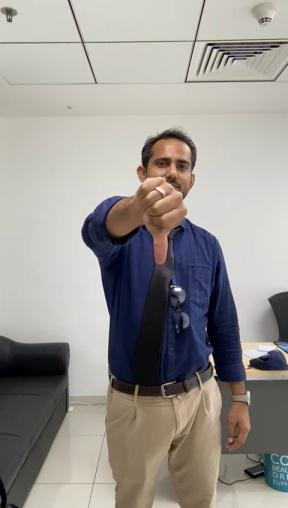thumbs-down: (133, 174, 193, 262)
